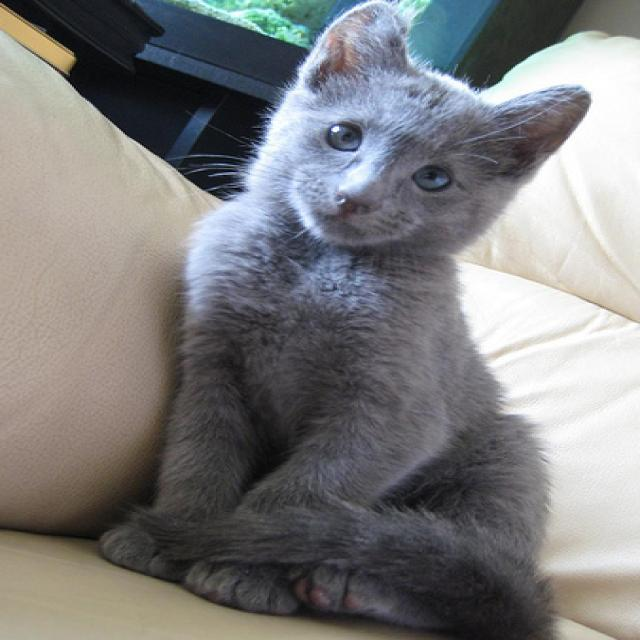Russian Blue: (93, 0, 596, 640)
